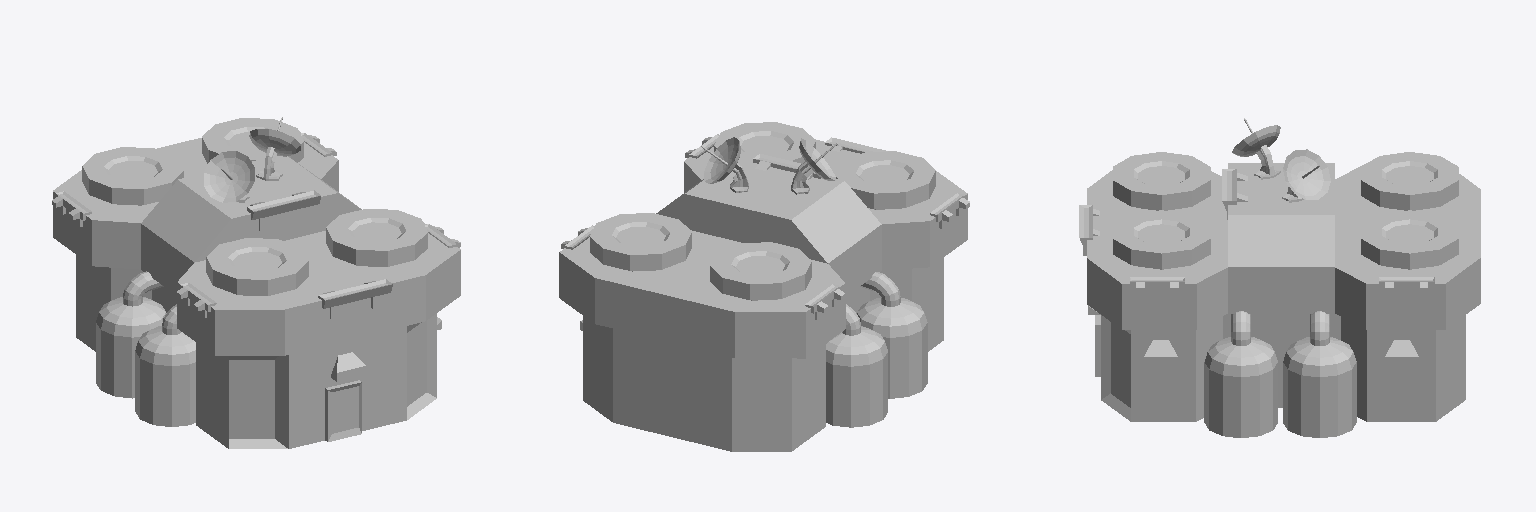
File: TechFacility.obj
3 views of the same model, side by side, from view 1: azimuth 30°, elevation 25°; view 2: azimuth 150°, elevation 25°; view 3: azimuth 270°, elevation 25° (orthographic).
Size of the model in its own units: 10.92 by 8.98 by 14.03.